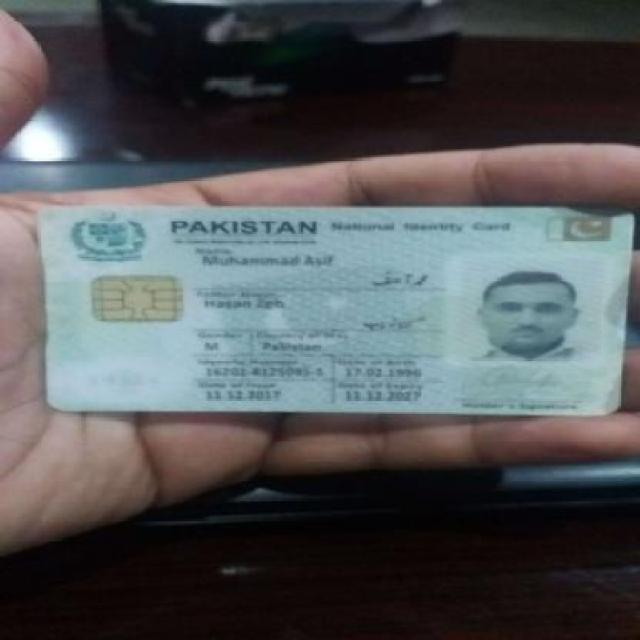Front: (28, 200, 630, 420)
